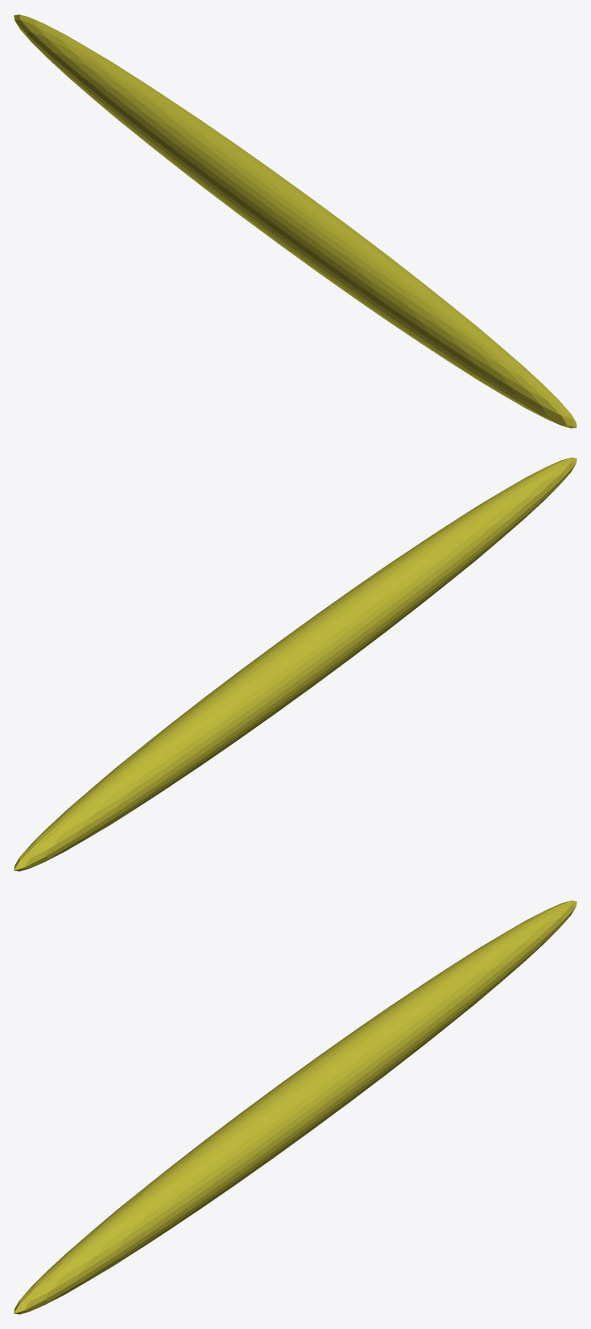
Rendered from laser.obj.
3 renders of one model, top to bottom at view 1: azimuth 30°, elevation 25°; view 2: azimuth 150°, elevation 25°; view 3: azimuth 330°, elevation 25°, orthographic.
Visible parts, largest first — view 1: Sphere; view 2: Sphere; view 3: Sphere.
Part boxes in pixels (x1,y1,x2,y2): Sphere: (14, 14, 576, 428); Sphere: (14, 457, 576, 871); Sphere: (14, 900, 576, 1314).
Bounding box in the file's own units: 2 × 2 × 40.
Materials: 1 (1 with a texture image).
